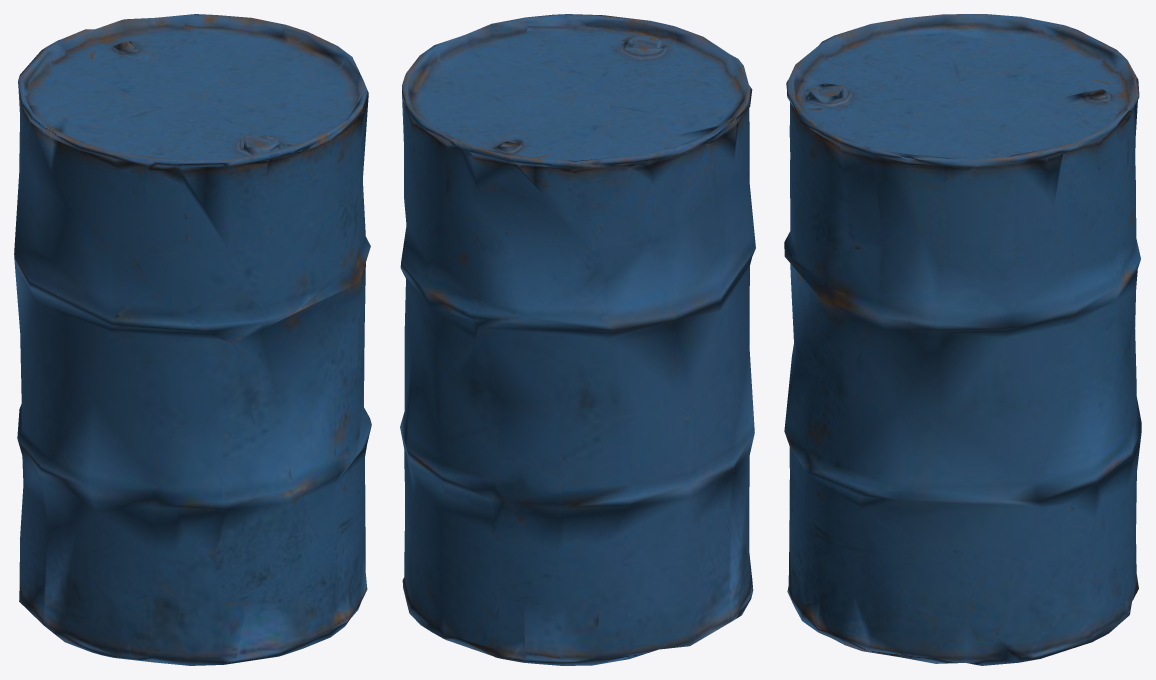
File: fut.glb
3 renders of one model, left to right at view 1: azimuth 30°, elevation 25°; view 2: azimuth 150°, elevation 25°; view 3: azimuth 270°, elevation 25°, orthographic.
Size of the model in its own units: 1.21 by 1.9 by 1.21.
Materials: 1 (1 with a texture image).
